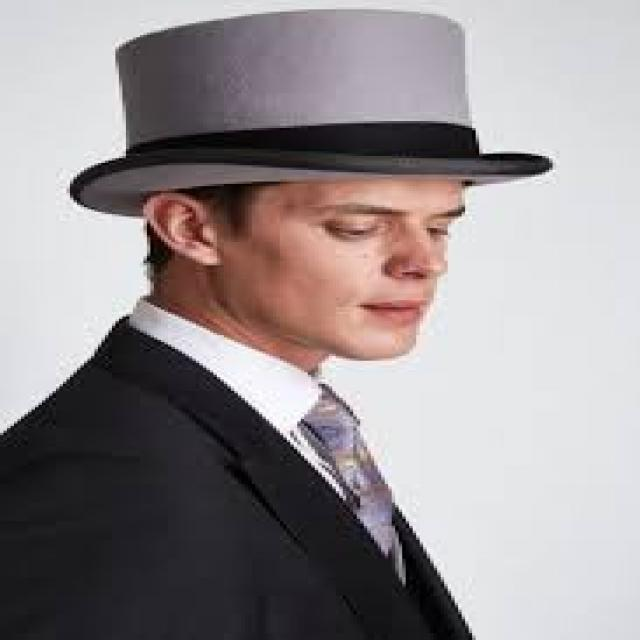hat: (62, 0, 570, 228)
